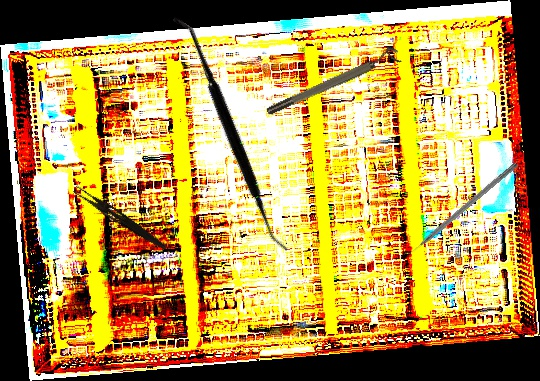Dressing Forceps: (70, 185, 170, 251)
Fixation Ring: (262, 44, 403, 118)
Hook Surgical: (403, 160, 519, 259)
Spatula Surgical: (99, 16, 361, 254)
